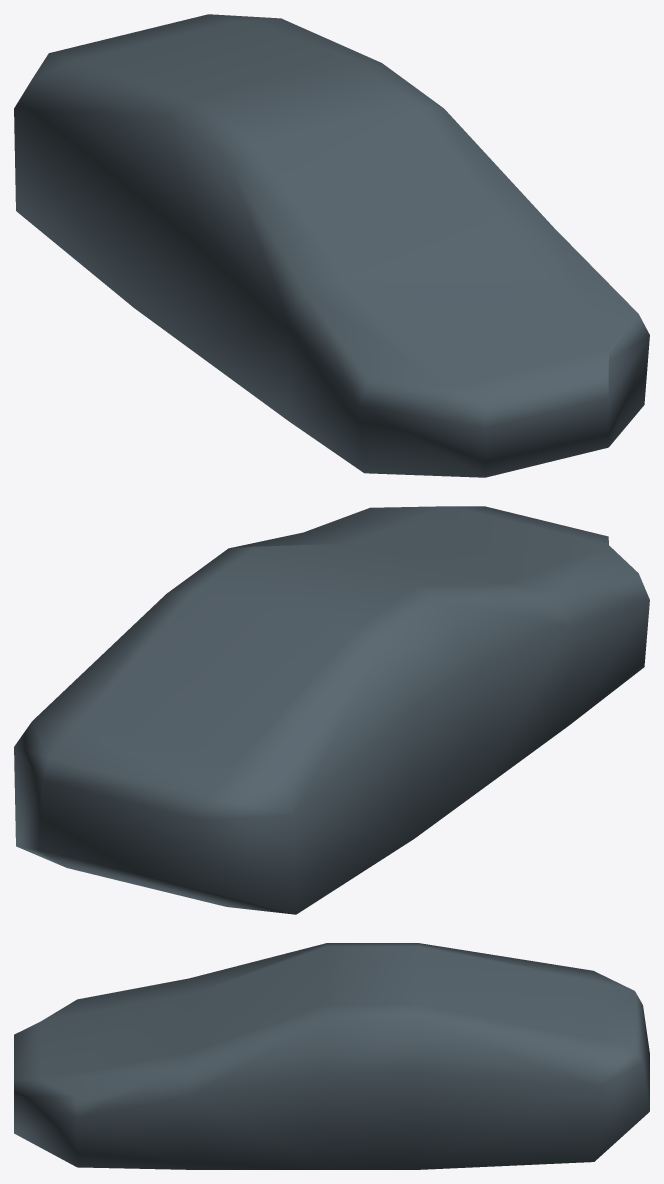
Rendered from mesh_CAR_01_collider.fbx.
The picture shows the model from 3 angles, top to bottom: view 1: azimuth 30°, elevation 25°; view 2: azimuth 150°, elevation 25°; view 3: azimuth 270°, elevation 25°; orthographic projection. The views are drawn at different scales.
Visible parts, largest first — view 1: mesh_CAR_01_collider_01; view 2: mesh_CAR_01_collider_01; view 3: mesh_CAR_01_collider_01.
Boxes of the visible parts, x1,y1,x2,y2 form: mesh_CAR_01_collider_01: (14,14,649,477); mesh_CAR_01_collider_01: (14,506,649,914); mesh_CAR_01_collider_01: (14,943,649,1169).
Size of the model in its own units: 181 by 115 by 461.
